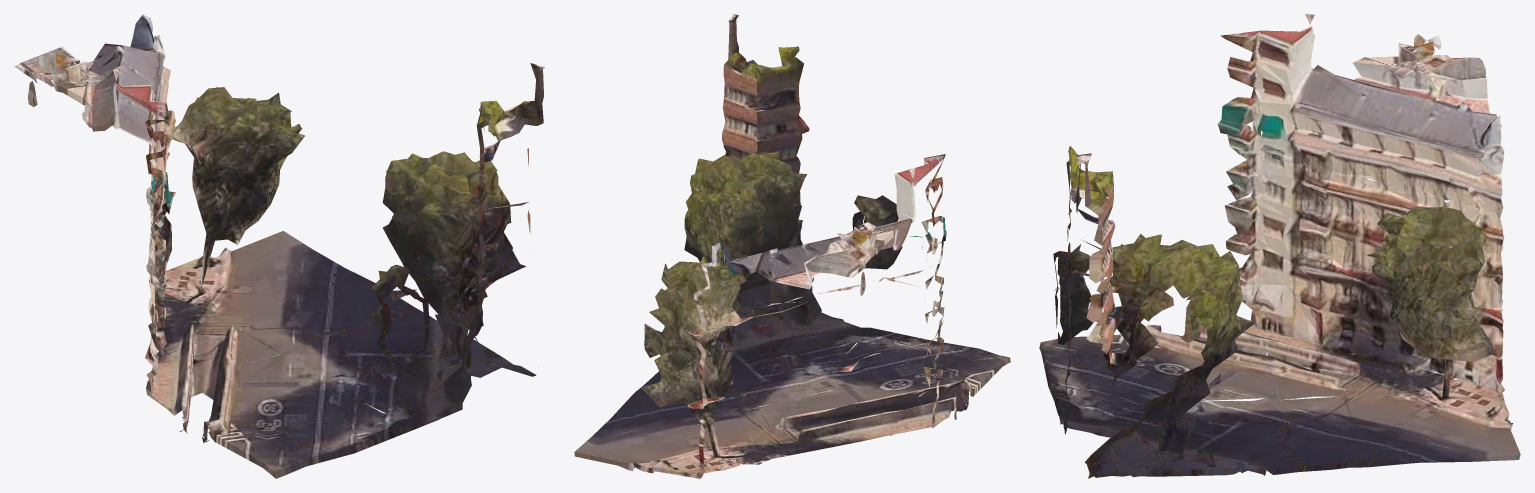
The picture shows the model from 3 angles, left to right: view 1: azimuth 30°, elevation 25°; view 2: azimuth 150°, elevation 25°; view 3: azimuth 270°, elevation 25°; orthographic projection. The views are drawn at different scales.
Visible parts, largest first — view 1: Mesh_0; view 2: Mesh_0; view 3: Mesh_0.
Boxes of the visible parts, <box> form: Mesh_0: <box>14,14,544,478</box>; Mesh_0: <box>574,14,1010,478</box>; Mesh_0: <box>1039,14,1520,478</box>.
Bounding box in the file's own units: 33.31 × 32.28 × 41.35.
1 material, 1 textured.
